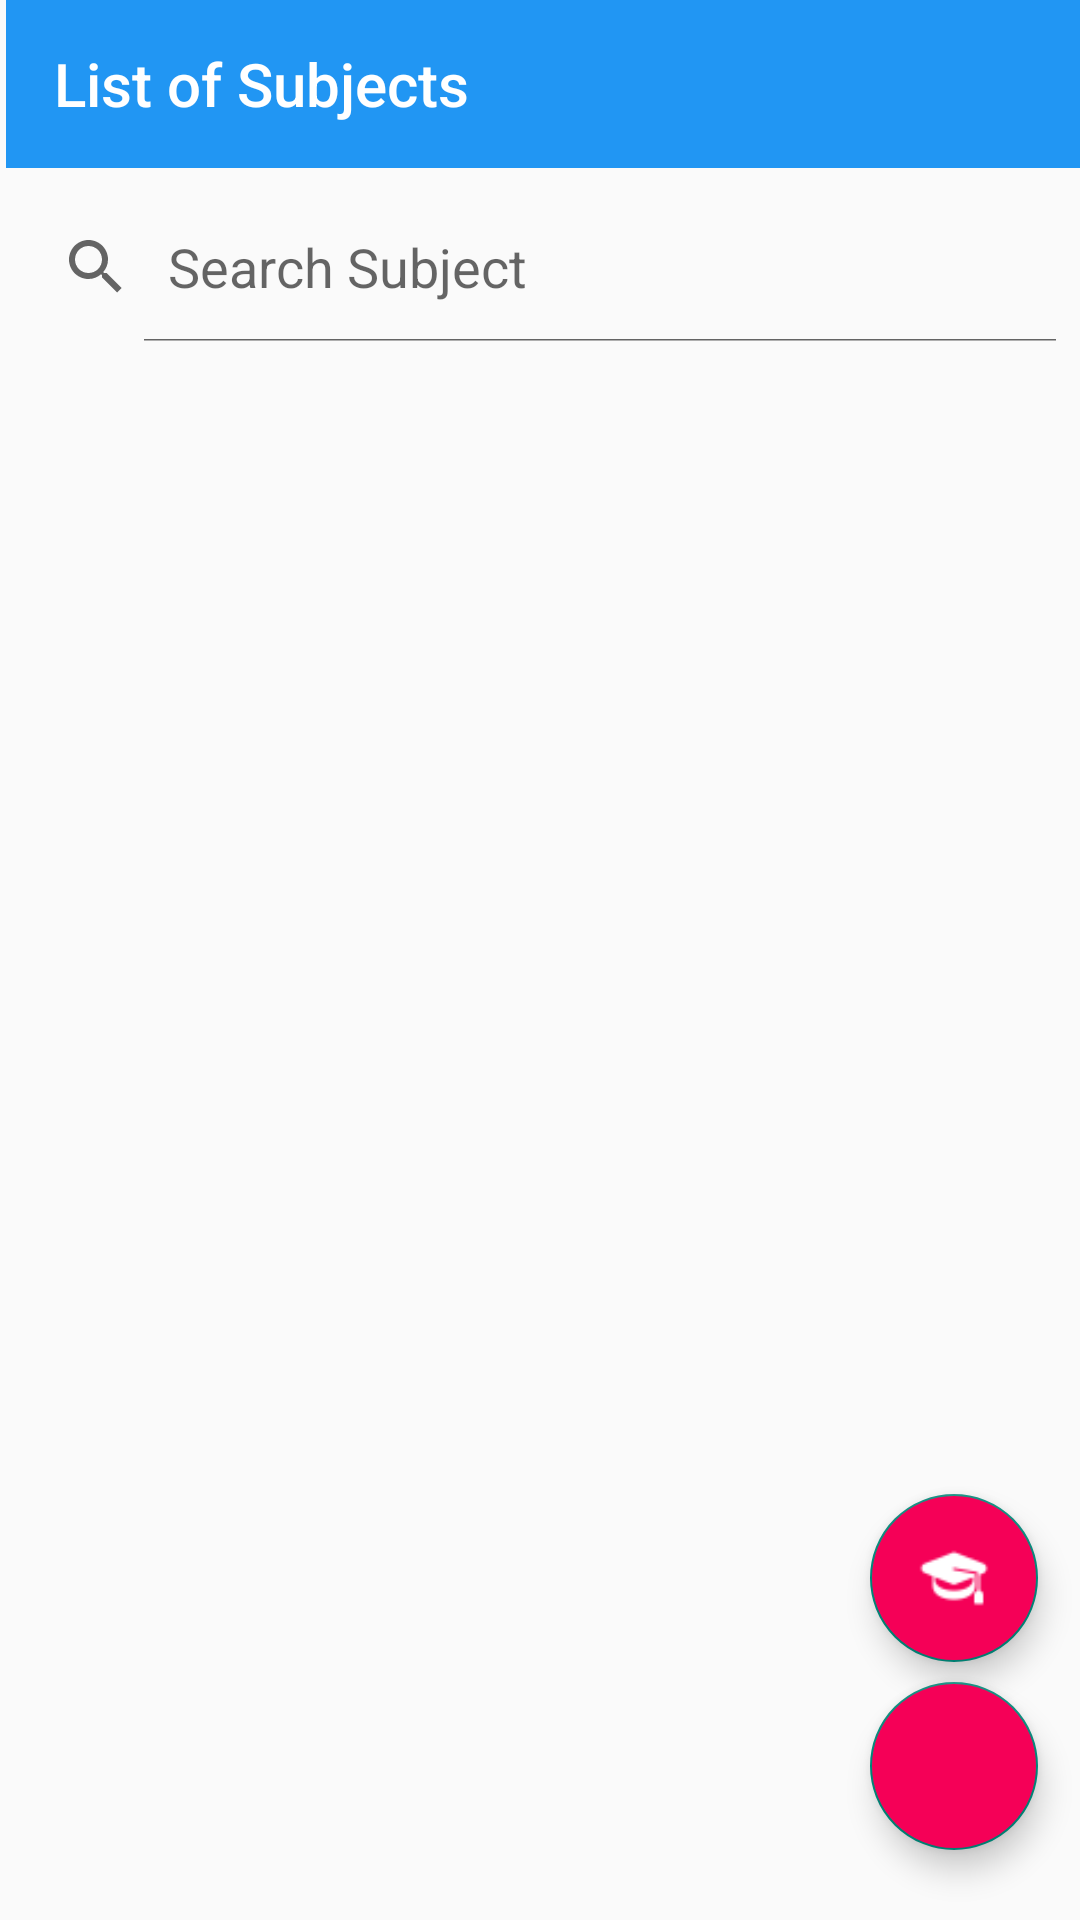

Named icons in this screenshot (1080 x 1920) and their bounding boxes, (x1, y1, x2, y2):
cap: (870, 1494, 1038, 1662)
